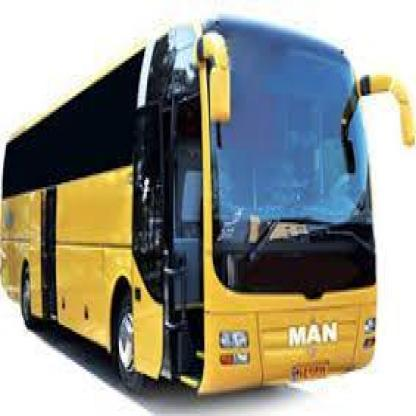Bus: (0, 0, 416, 411)
